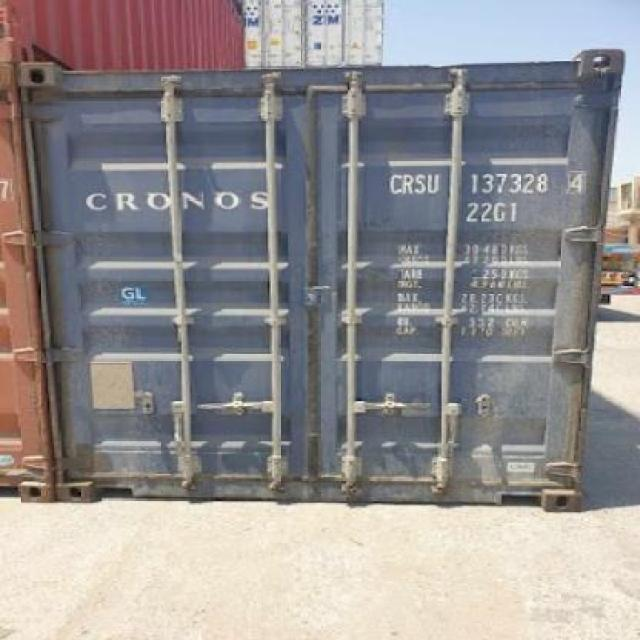ISO: (464, 198, 529, 222)
container_number: (390, 166, 588, 198)
